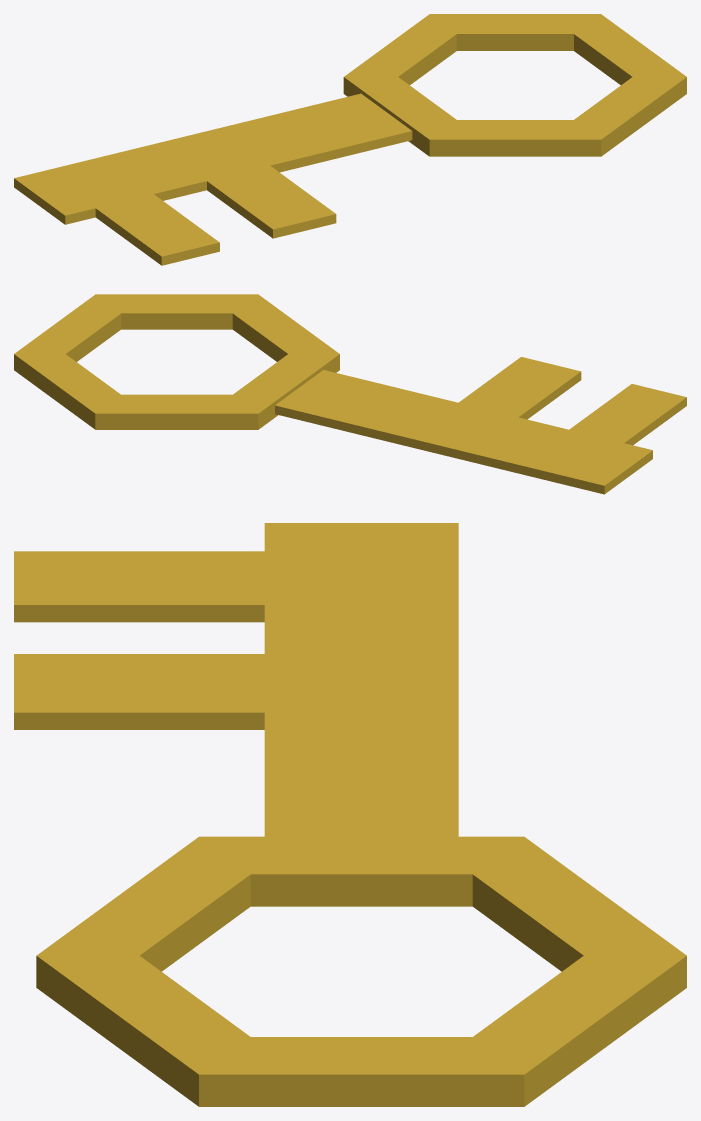
Rendered from key.glb.
3 views of the same model, one above another, from view 1: azimuth 30°, elevation 25°; view 2: azimuth 150°, elevation 25°; view 3: azimuth 270°, elevation 25° (orthographic). The views are drawn at different scales.
Visible parts, largest first — view 1: Circle; view 2: Circle; view 3: Circle.
Part boxes in pixels (box(x1,y1,x2,y2)): Circle: box(14, 14, 686, 265); Circle: box(14, 294, 686, 494); Circle: box(14, 523, 686, 1106).
Size of the model in its own units: 0.746 by 0.0201 by 0.3795.
